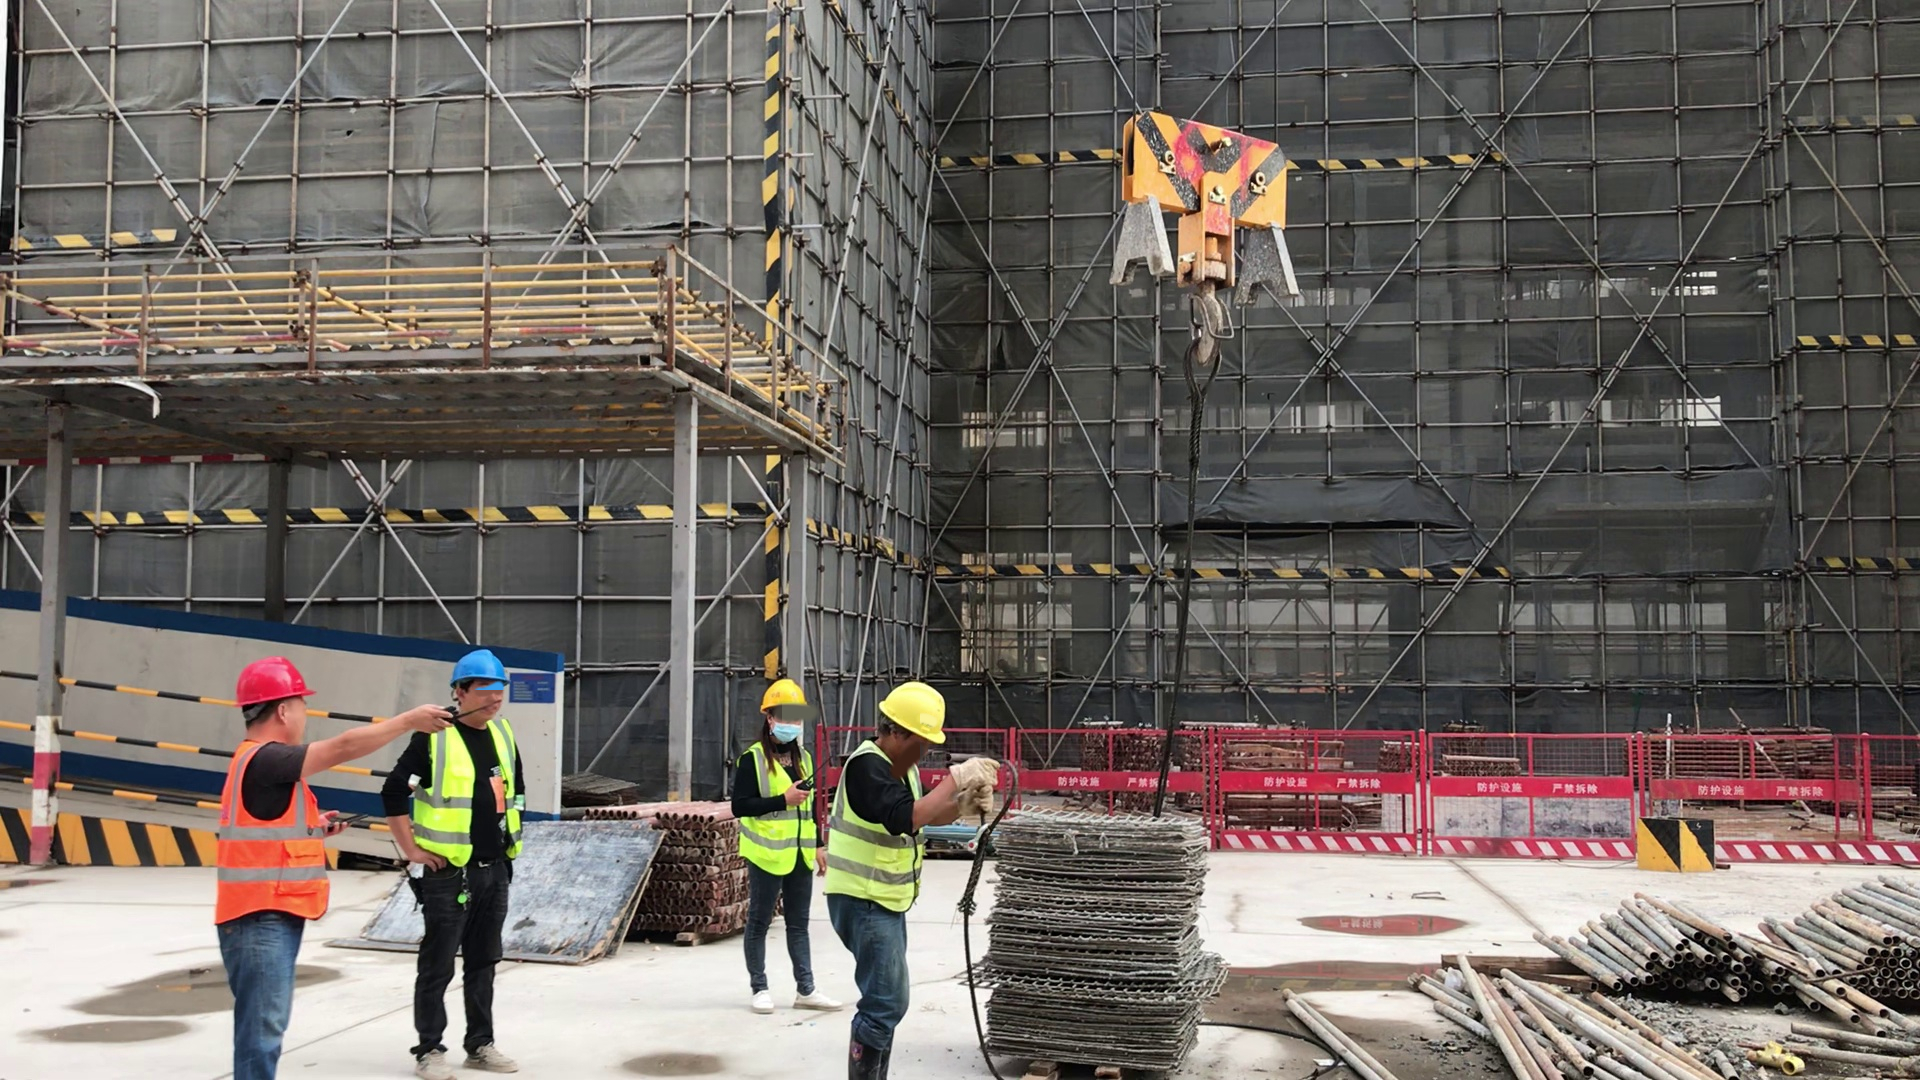helmet: (878, 679, 946, 746), (233, 657, 315, 706), (451, 647, 508, 688), (759, 679, 806, 715)
person: (215, 656, 450, 1080), (823, 683, 997, 1080), (385, 649, 529, 1079), (729, 680, 848, 1015)
vest: (215, 742, 328, 924), (412, 716, 525, 865), (823, 739, 920, 910), (738, 737, 823, 874)
